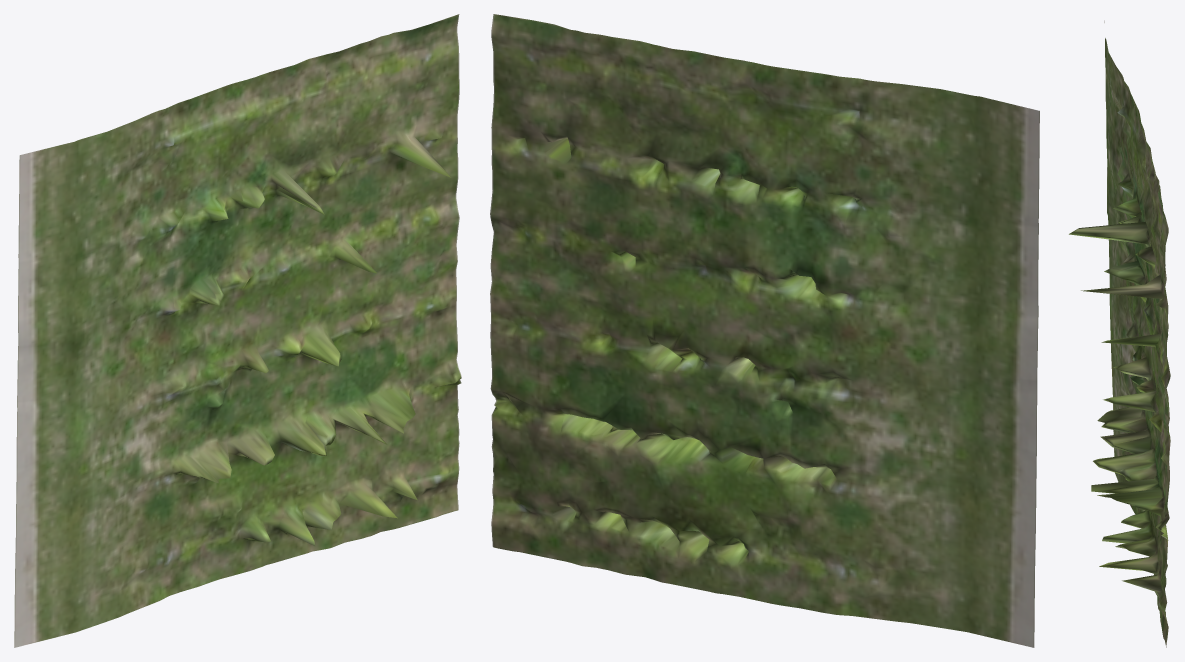
Rendered from map_120_90.obj.
3 renders of one model, left to right at view 1: azimuth 30°, elevation 25°; view 2: azimuth 150°, elevation 25°; view 3: azimuth 270°, elevation 25°, orthographic. The views are drawn at different scales.
Parts seen in each view (by area): view 1: map_120_90.obj; view 2: map_120_90.obj; view 3: map_120_90.obj.
Boxes of the visible parts, x1,y1,x2,y2 form: map_120_90.obj: (14, 14, 461, 647); map_120_90.obj: (490, 14, 1039, 647); map_120_90.obj: (1069, 20, 1170, 647).
Bounding box in the file's own units: 10 × 10 × 2.15.
Materials: 1 (1 with a texture image).
